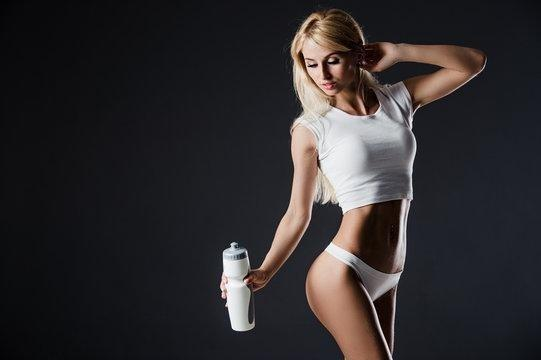gym bottle: (221, 242, 256, 333)
